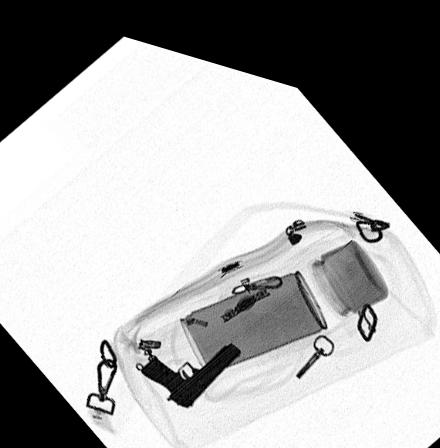Gun: (137, 326, 244, 397)
